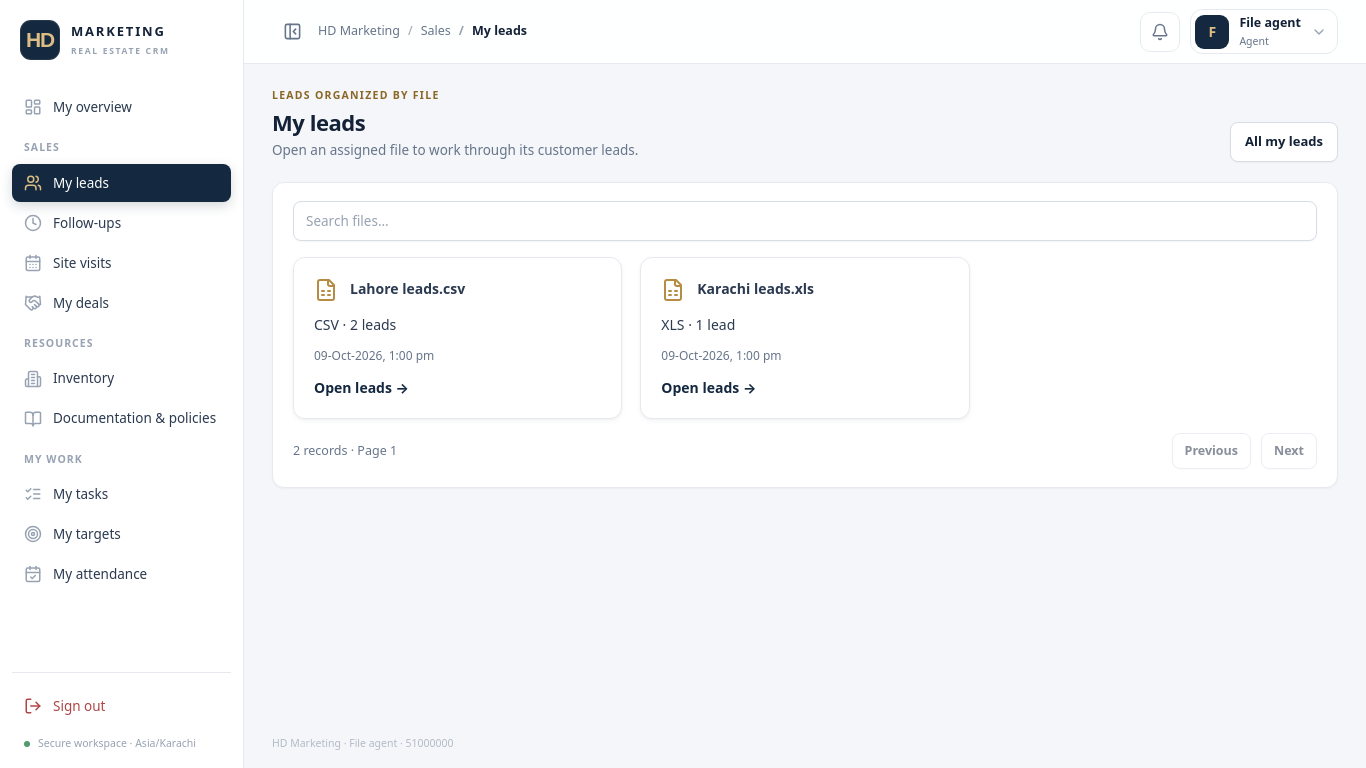
Test case: file assignment screens › opens an agent’s assigned file as a filtered lead list with full phone numbers
Click the link "Lahore leads.csv" at (408, 289), box left=293, top=257, right=622, bottom=419
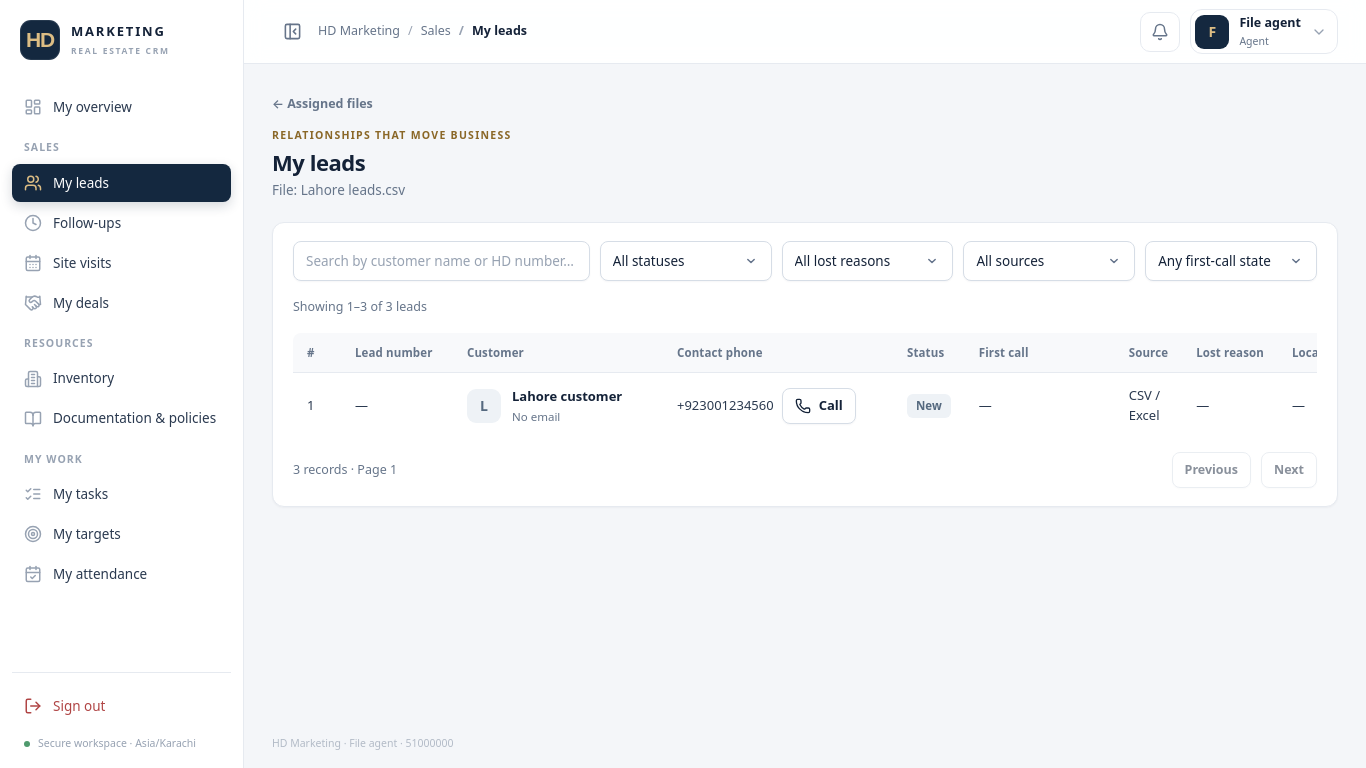
Check: the link "Karachi customer" is not shown
Check: the link "L Lahore customer No email" is shown, box left=467, top=387, right=649, bottom=425
Check: the text "+923001234560" is shown, box left=677, top=396, right=774, bottom=416
Select "Contacted" in the dropdown named "Filter by status" at (686, 261), box left=600, top=241, right=772, bottom=281
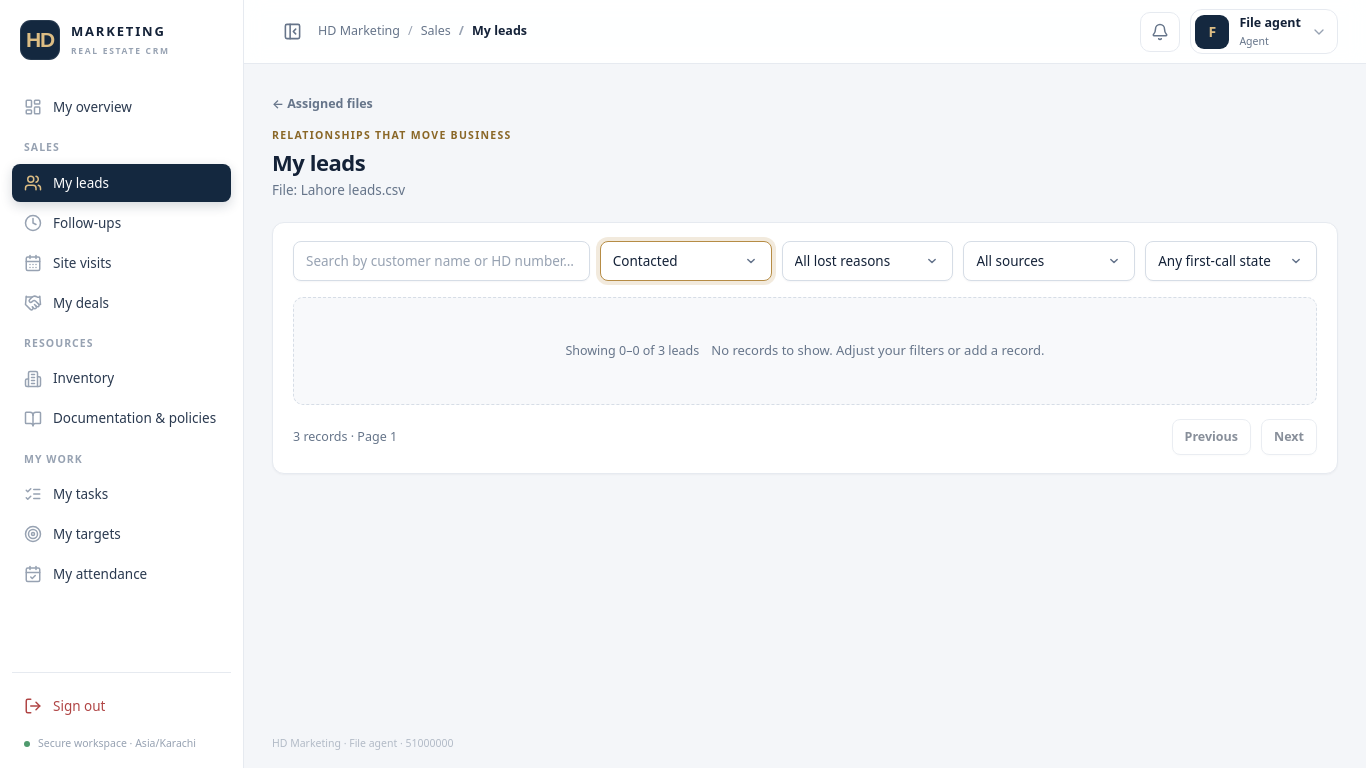
Check: the text "No records to show" is shown, box left=711, top=341, right=1045, bottom=359
Click the link "← Assigned files" at (322, 103), box left=272, top=95, right=373, bottom=112
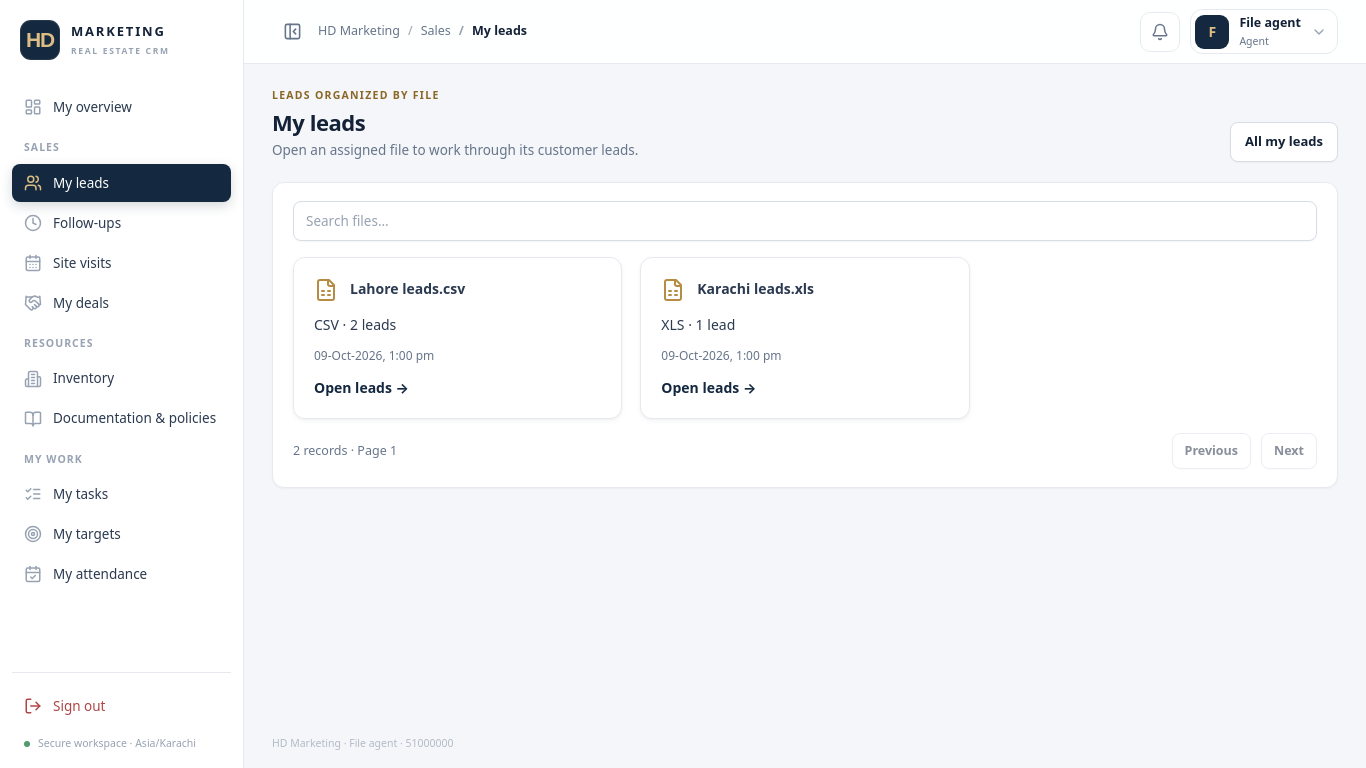
Click the link "All my leads" at (1284, 142), box left=1230, top=122, right=1338, bottom=162
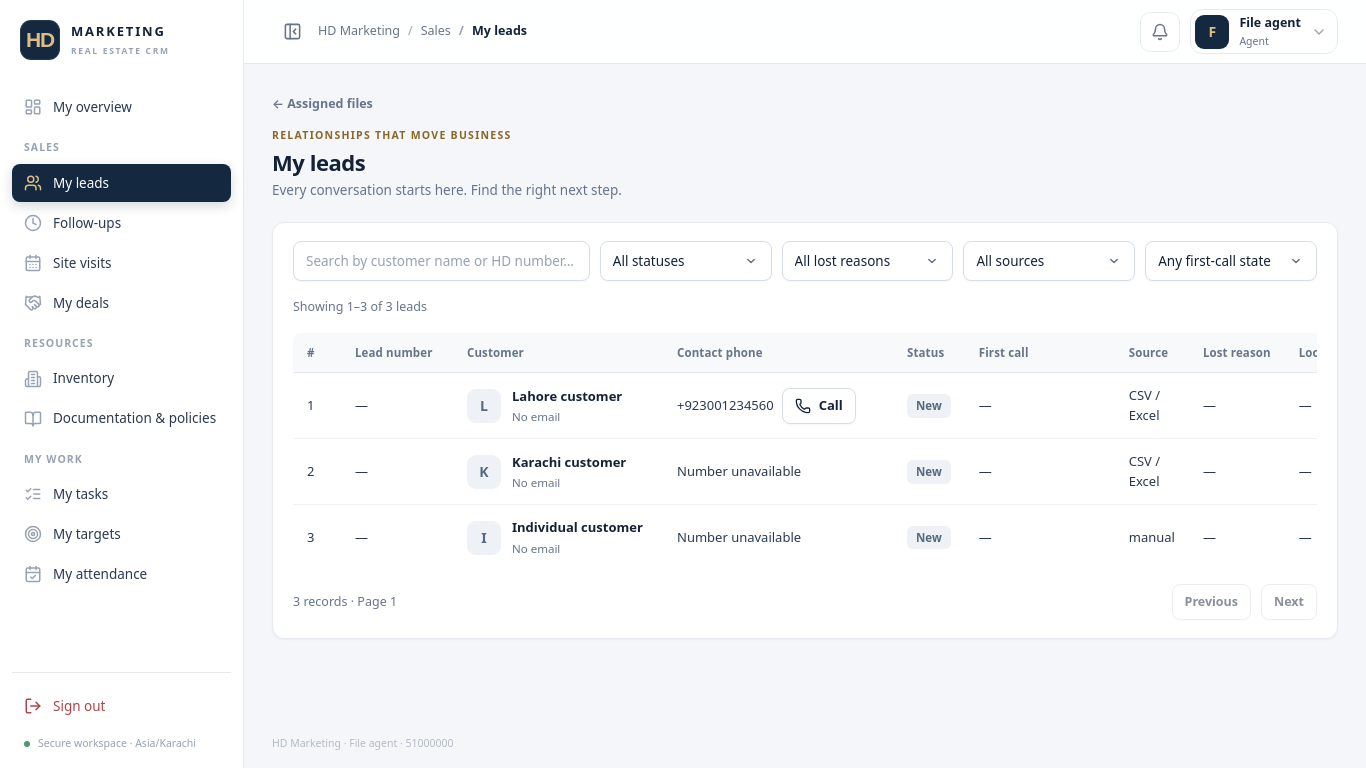
Check: the link "I Individual customer No email" is shown, box left=467, top=518, right=649, bottom=557
